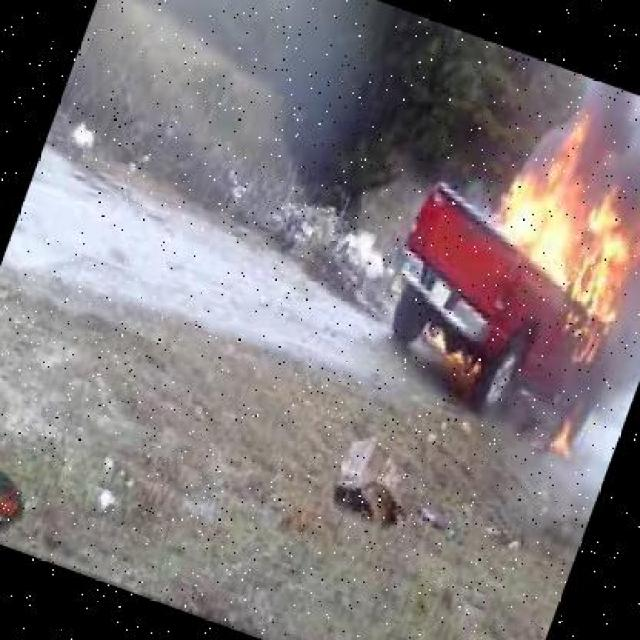fire: (448, 94, 638, 369)
